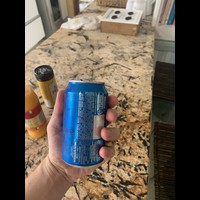blackprincess: (35, 65, 58, 93)
maguary: (23, 96, 44, 138)
tonica: (61, 81, 106, 169)
